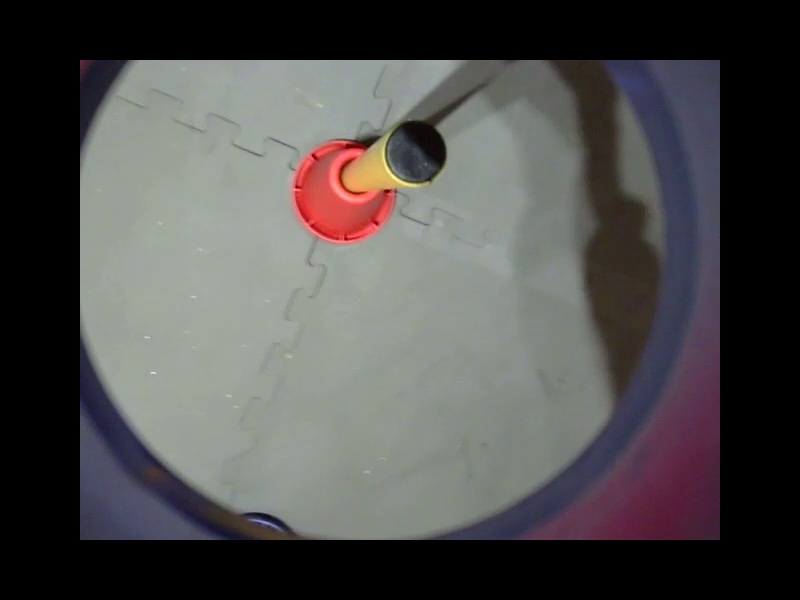tip: (376, 115, 451, 189)
